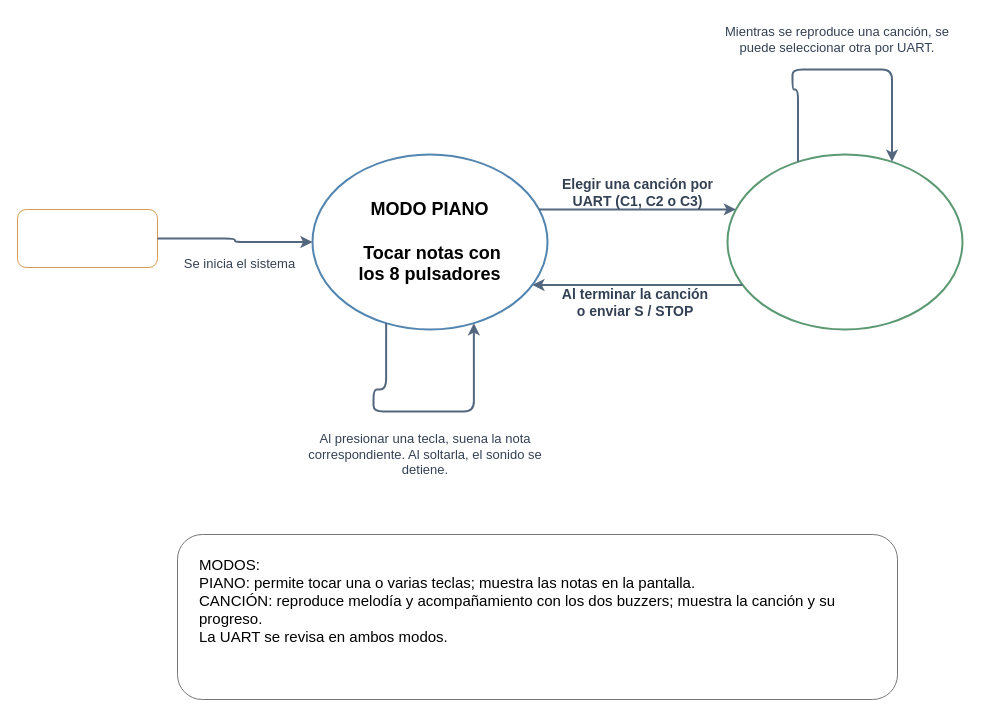
Image size: 981x717. Some labels were removed from this diagram. The shapes that lost their labels are listed below. From the top down, each one's centre as x and y in pixels, then its label:
At (87,238): "ENCENDIDO".
At (844,241): "MODO CANCIÓN Reproducción automática".
